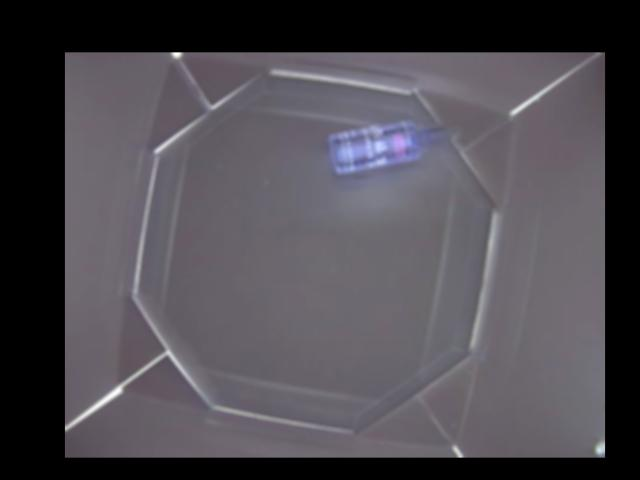Bottle: (328, 122, 459, 174)
